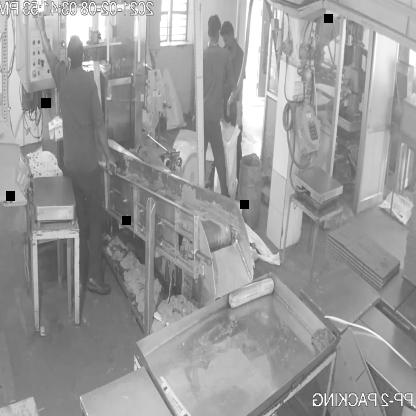no_glove: (95, 111, 118, 179), (31, 11, 55, 68)
